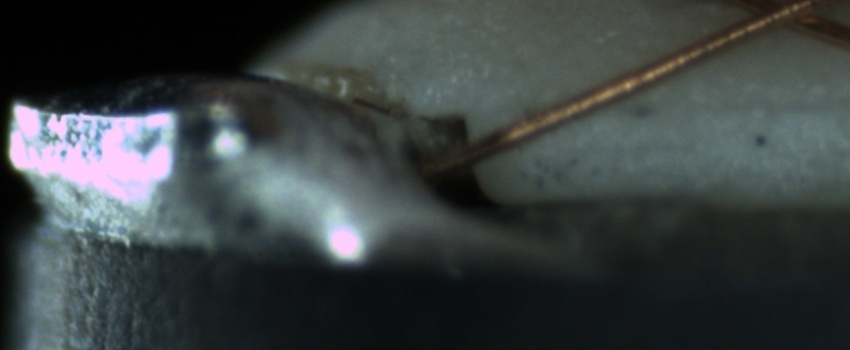CL: (720, 0, 832, 38)
DL: (612, 71, 848, 137)
